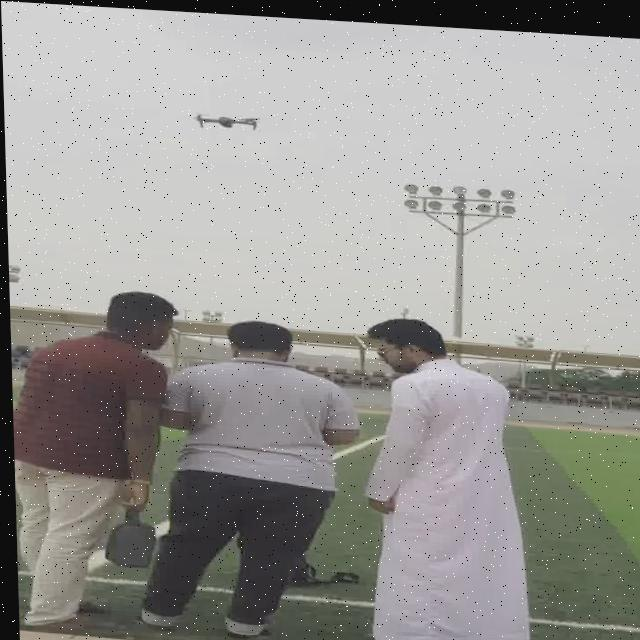drone: (187, 102, 266, 131)
